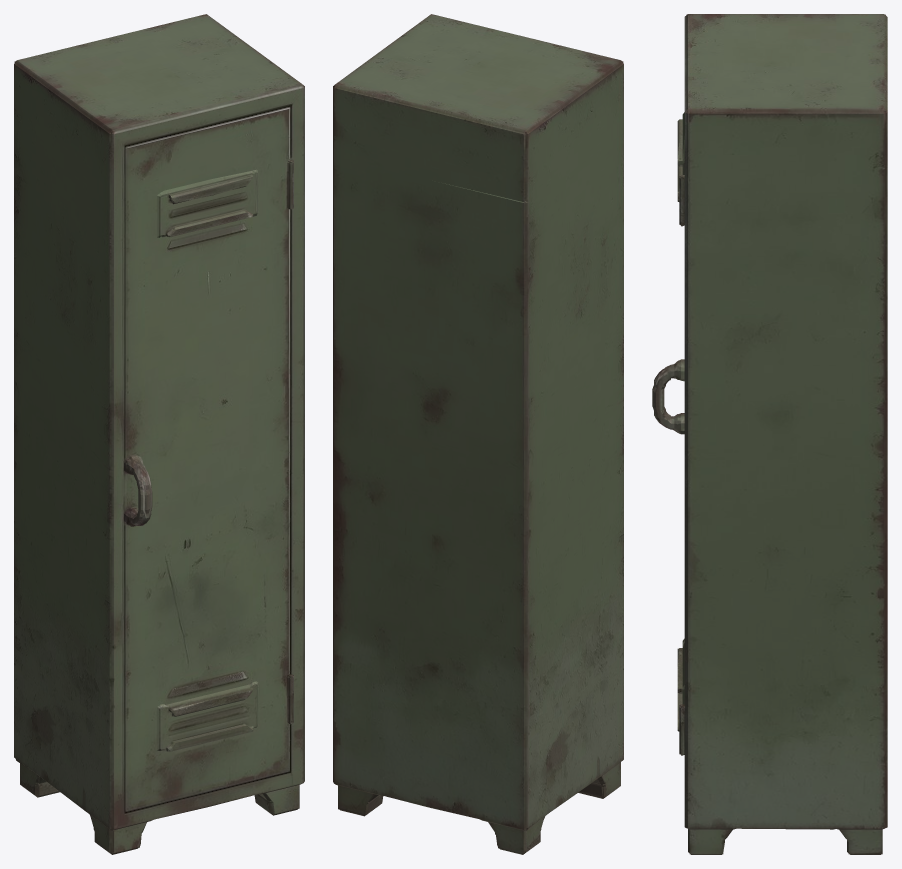
Rendered from armario.glb.
3 renders of one model, left to right at view 1: azimuth 30°, elevation 25°; view 2: azimuth 150°, elevation 25°; view 3: azimuth 270°, elevation 25°, orthographic. The views are drawn at different scales.
Parts seen in each view (by area): view 1: mesh_node; view 2: mesh_node; view 3: mesh_node.
Part boxes in pixels (x1=…): mesh_node: x1=14, y1=14, x2=304, y2=854; mesh_node: x1=333, y1=14, x2=623, y2=854; mesh_node: x1=652, y1=14, x2=887, y2=854.
Size of the model in its own units: 0.5362 by 1.91 by 0.544.
Materials: 1 (1 with a texture image).
